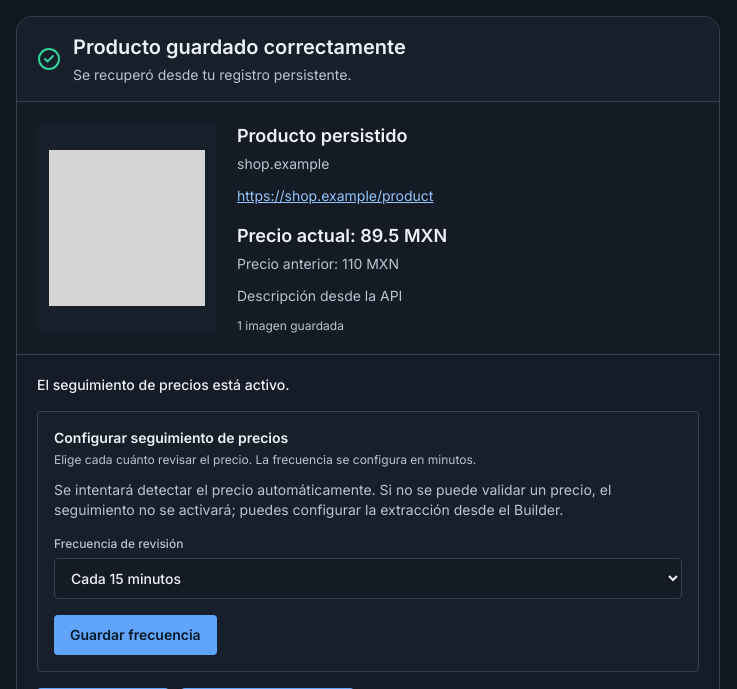
ProductSavedPage › shows monitor update failures without claiming the selected frequency was saved
This screenshot has width=737, height=689.
Select "Cada 30 minutos" in the dropdown named "Frecuencia de revisión" at {"x": 368, "y": 578}, box [54,558,682,599]
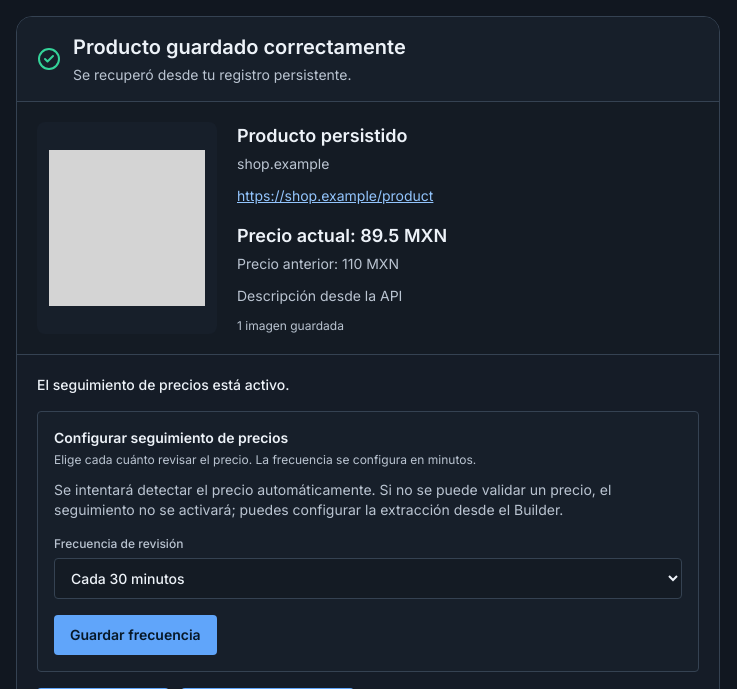
Click the button "Guardar frecuencia" at {"x": 135, "y": 635}, box [54,615,217,655]
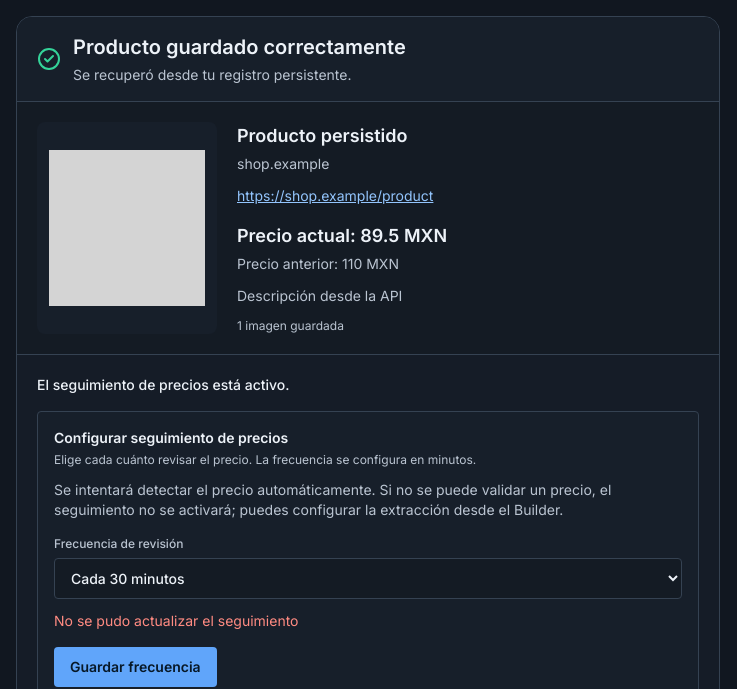
Check: the text "El seguimiento de precios está activo." is shown, box [37,376,290,393]
Check: the message "No se pudo actualizar el seguimiento" is shown, box [54,612,298,629]
